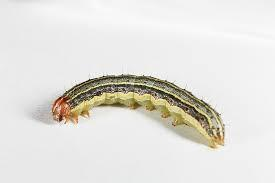fallarmy_worm: (48, 72, 232, 150)
